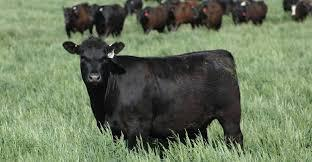cow: (62, 36, 244, 155), (134, 5, 174, 35), (93, 3, 128, 36), (62, 1, 93, 38), (232, 0, 268, 25), (288, 0, 312, 24), (124, 0, 143, 16)
